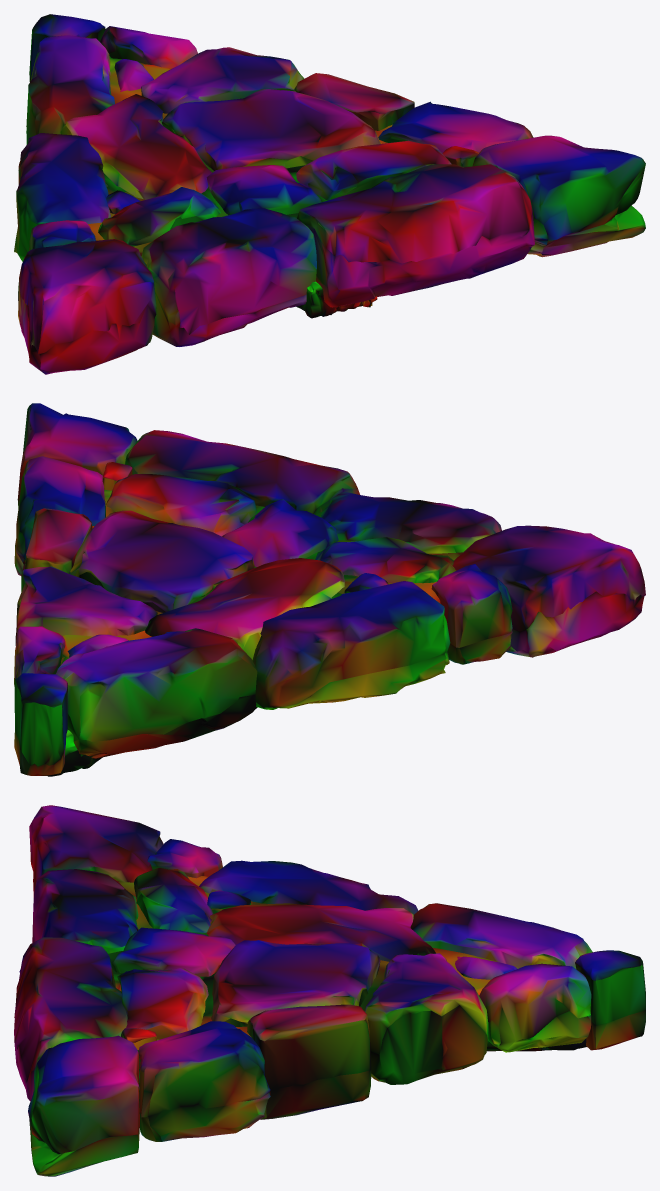
File: SM_Stone_Ceiling_Tri.fbx
3 views of the same model, one above another, from view 1: azimuth 30°, elevation 25°; view 2: azimuth 150°, elevation 25°; view 3: azimuth 270°, elevation 25° (orthographic).
Parts seen in each view (by area): view 1: SM_Stone_Ceiling_Tri_LOD0; view 2: SM_Stone_Ceiling_Tri_LOD0; view 3: SM_Stone_Ceiling_Tri_LOD0.
Boxes of the visible parts, left/top/right/bottom form: SM_Stone_Ceiling_Tri_LOD0: left=14, top=14, right=645, bottom=374; SM_Stone_Ceiling_Tri_LOD0: left=14, top=403, right=645, bottom=776; SM_Stone_Ceiling_Tri_LOD0: left=14, top=805, right=645, bottom=1176.
Bounding box in the file's own units: 296 × 263 × 45.38.
